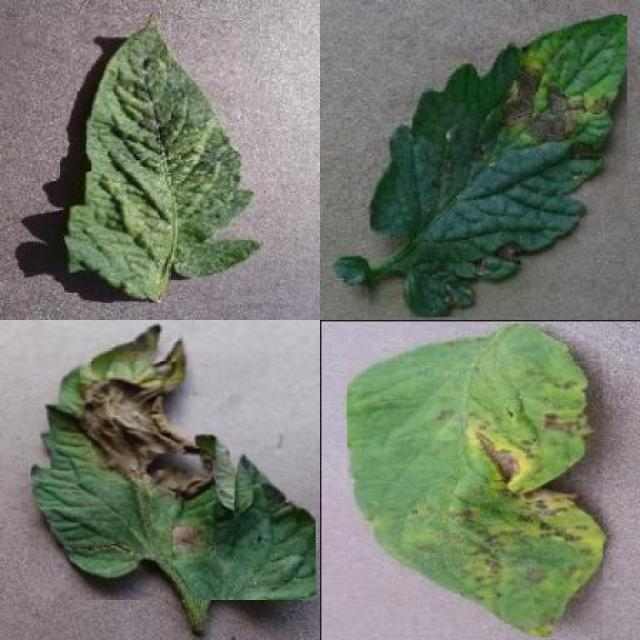Early Blight: (369, 15, 627, 318)
Late Blight: (28, 322, 316, 600)
Septoria: (347, 323, 603, 637)
Spider Mites: (65, 14, 262, 303)
